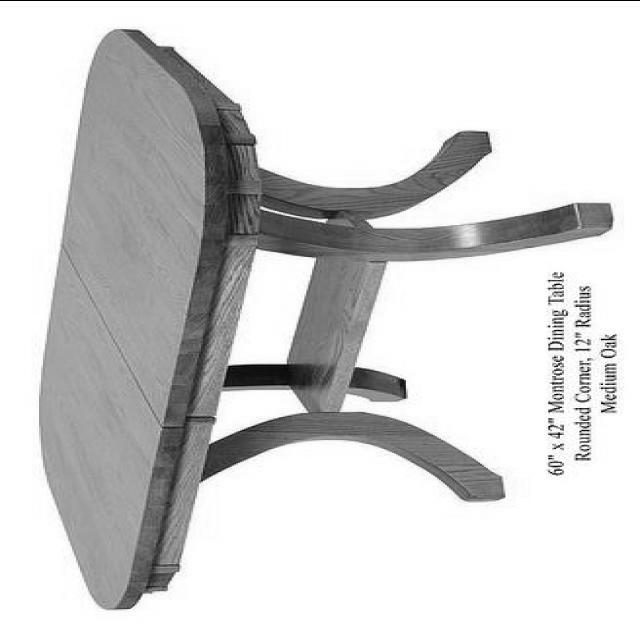table: (36, 31, 610, 608)
